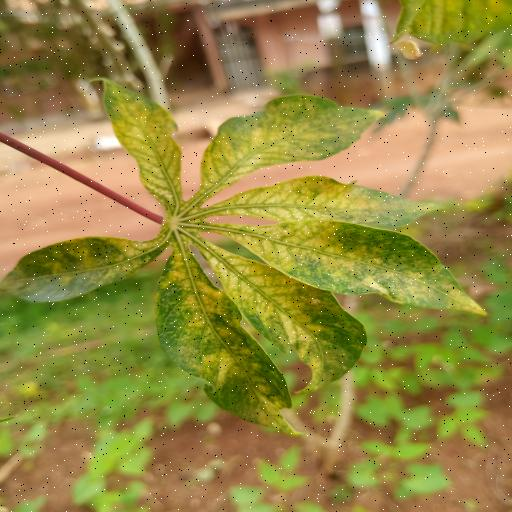Cassava_Mosaic: (4, 67, 484, 441)
